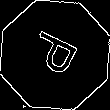P_SE: (24, 27, 86, 83)
